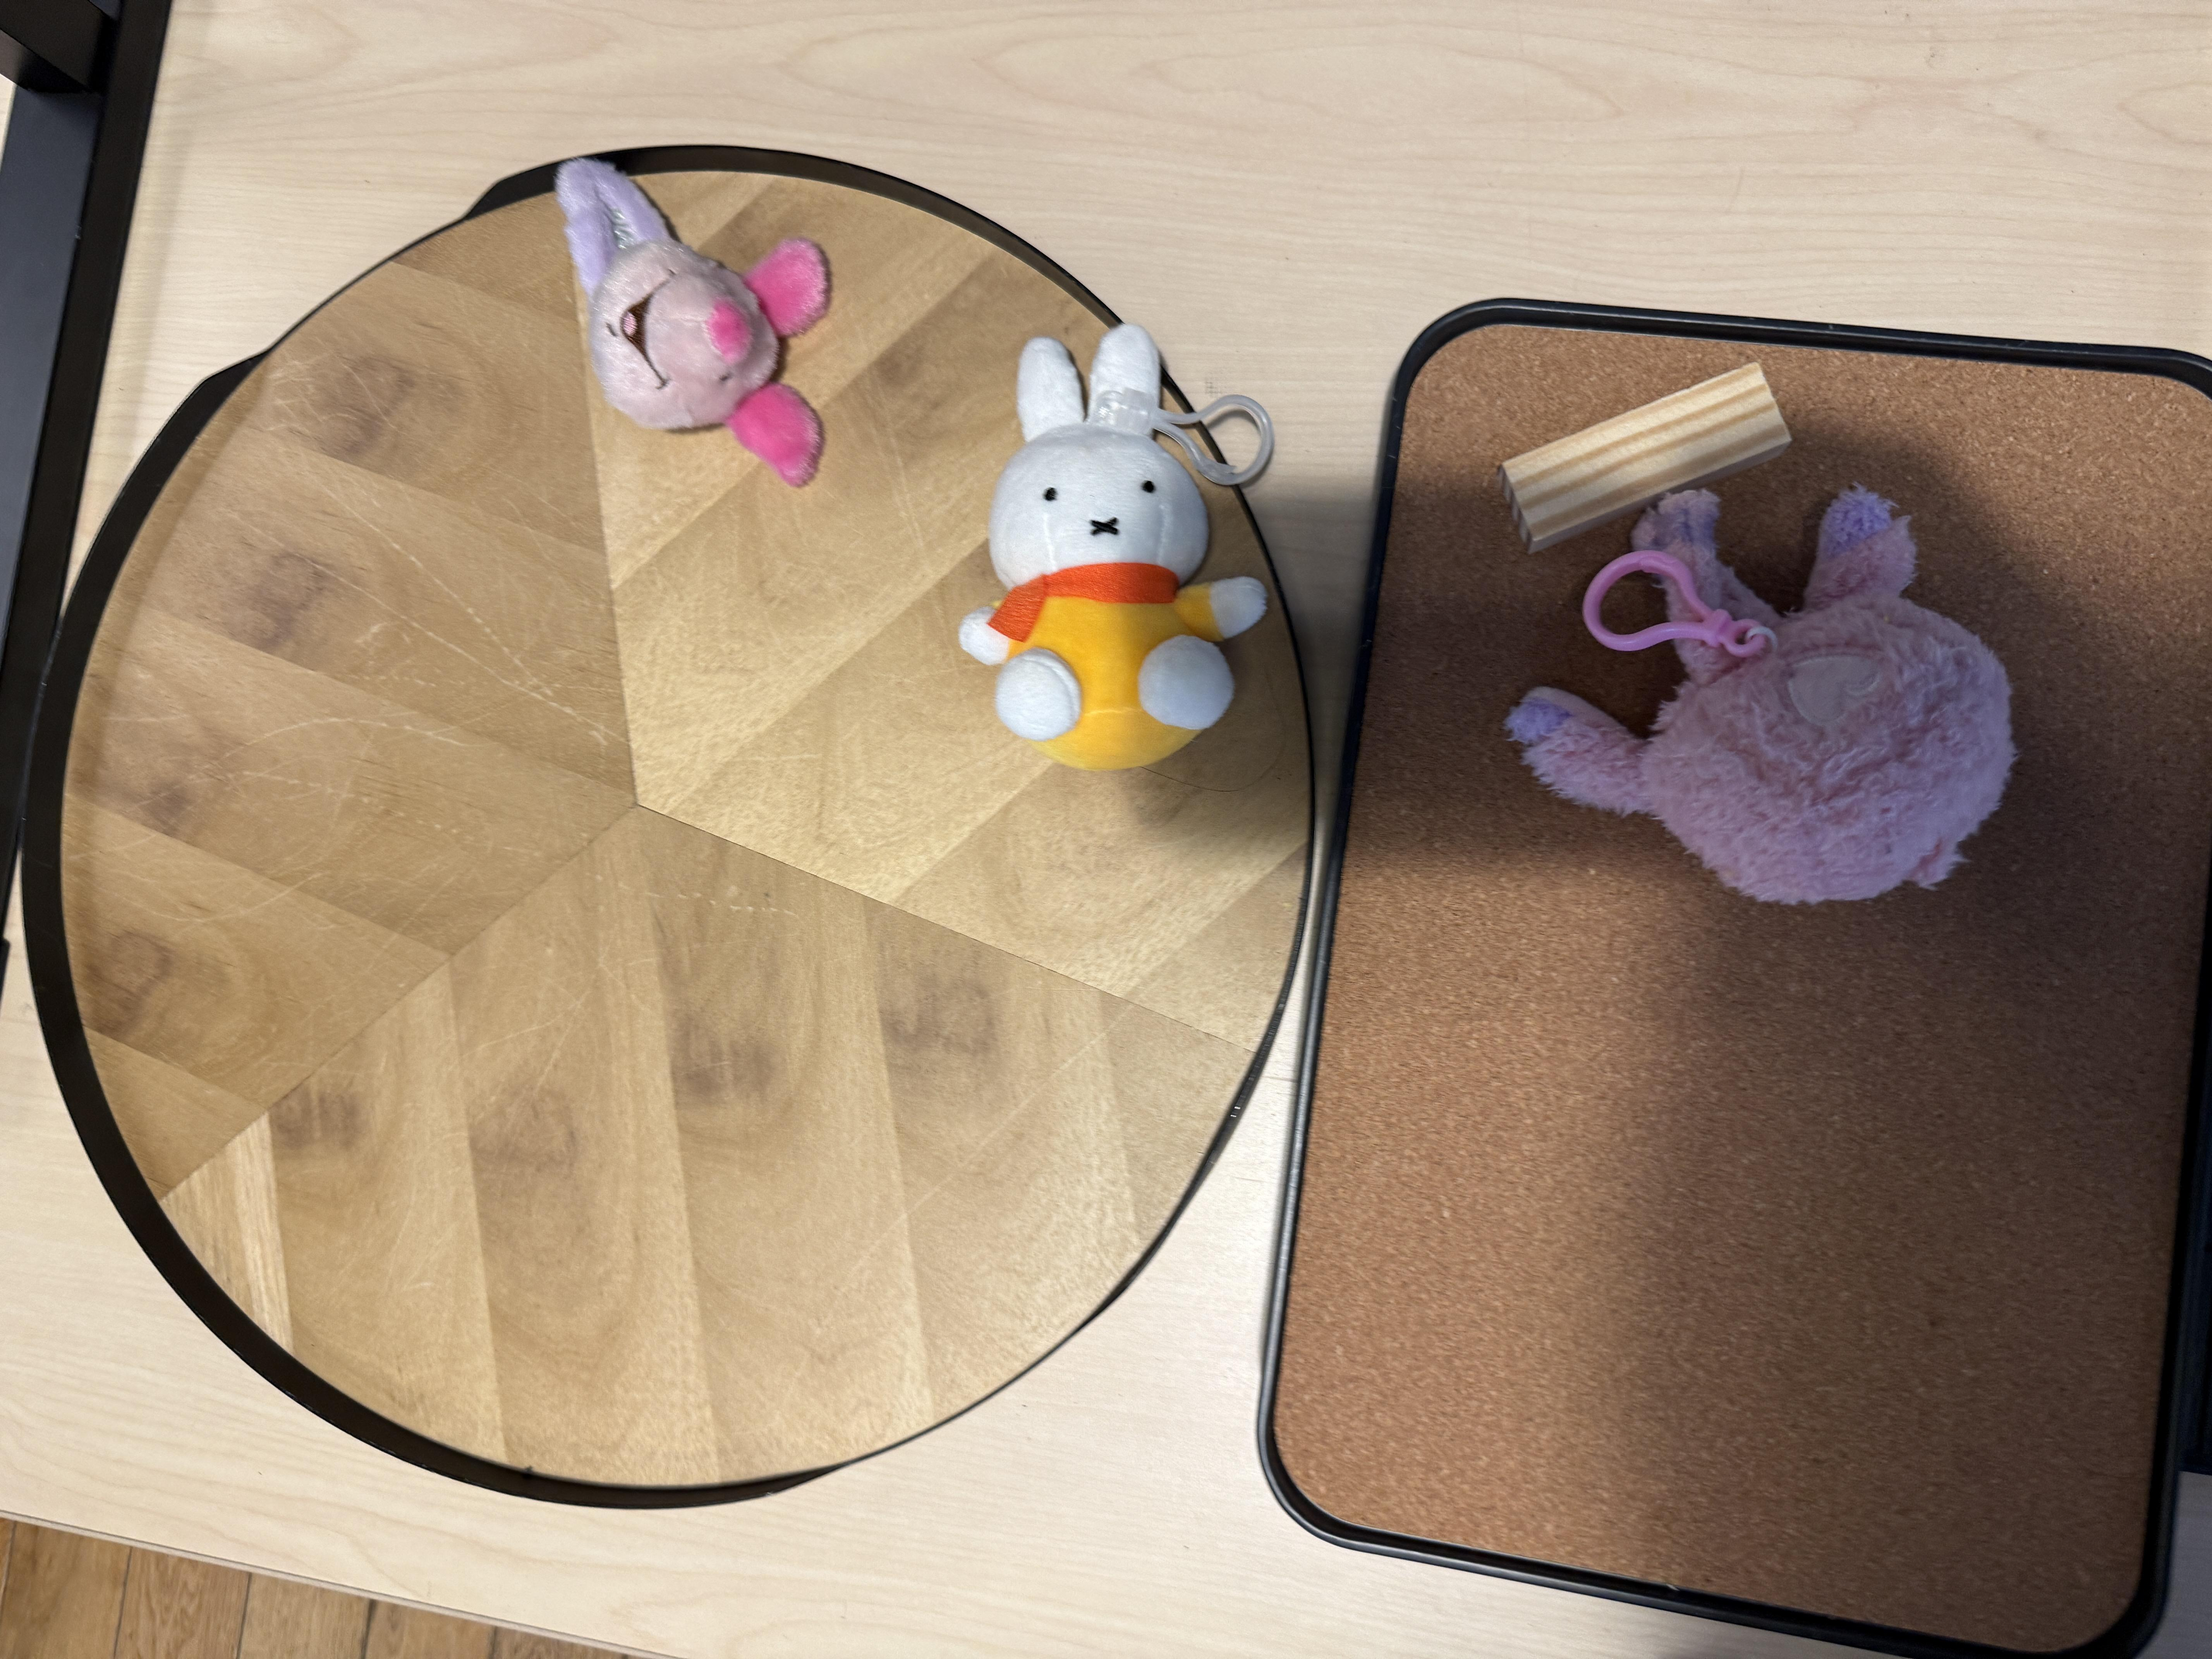block: (1501, 359, 1796, 551)
doll: (1512, 490, 2015, 899), (954, 315, 1275, 765), (559, 157, 827, 486)
